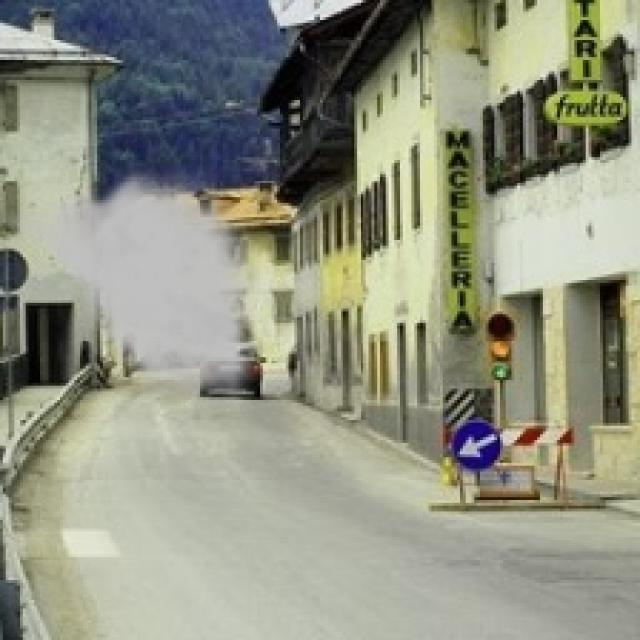Smoke: (0, 163, 269, 414)
